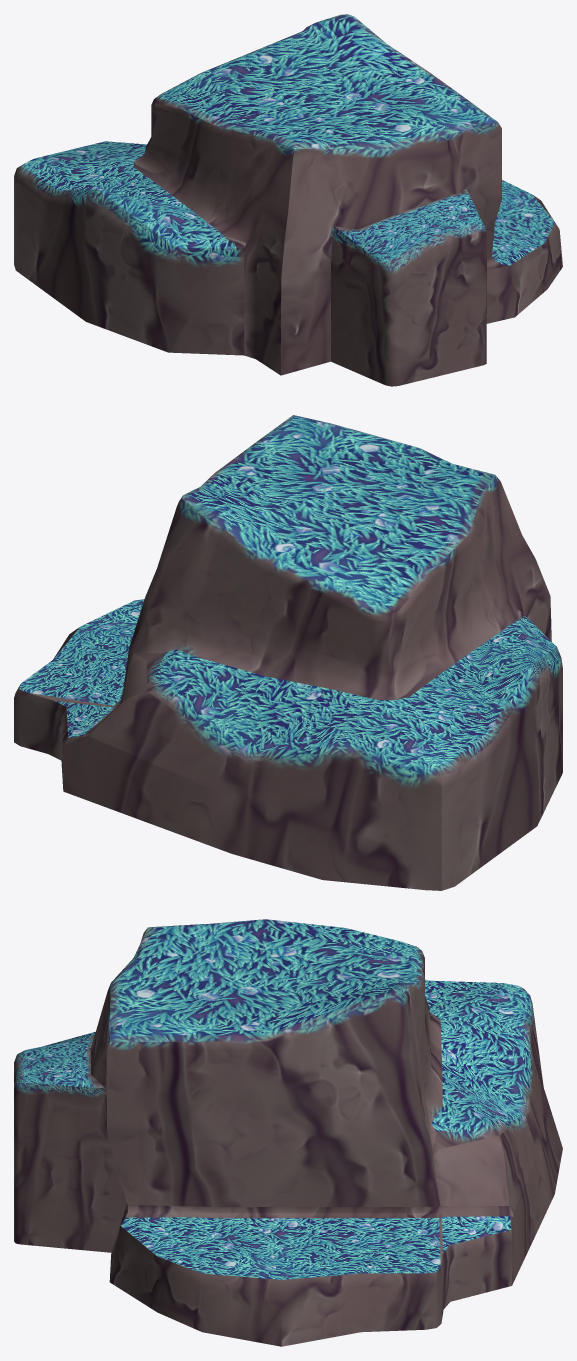
The model's file is rocklandscape3.fbx.
The picture shows the model from 3 angles, top to bottom: view 1: azimuth 30°, elevation 25°; view 2: azimuth 150°, elevation 25°; view 3: azimuth 270°, elevation 25°; orthographic projection. The views are drawn at different scales.
Parts seen in each view (by area): view 1: polySurface4; view 2: polySurface4; view 3: polySurface4.
Part boxes in pixels (x1,y1,x2,y2): polySurface4: (14, 14, 562, 386); polySurface4: (14, 415, 562, 890); polySurface4: (14, 919, 562, 1346).
Size of the model in its own units: 7.83 by 3.83 by 7.28.
